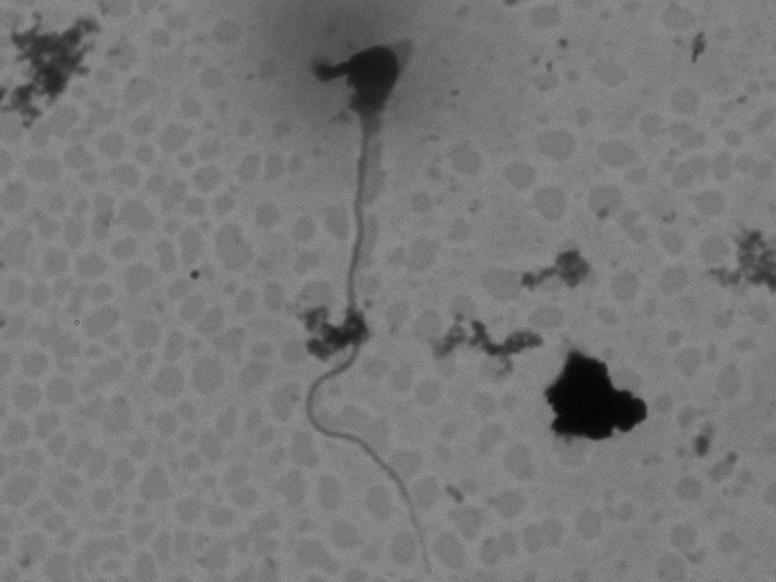Abnormal: (271, 43, 498, 575)
